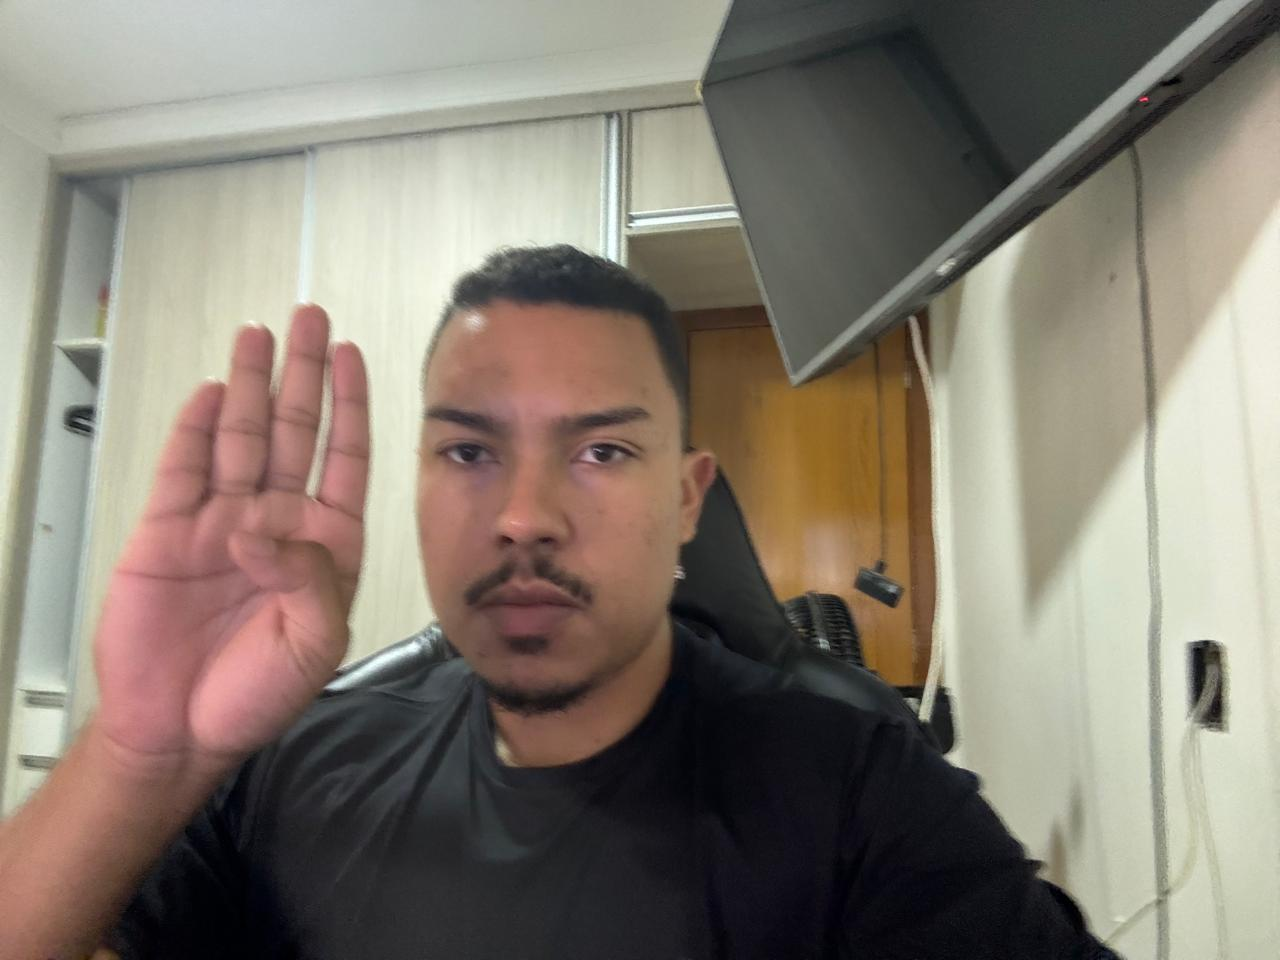b: (81, 301, 384, 768)
